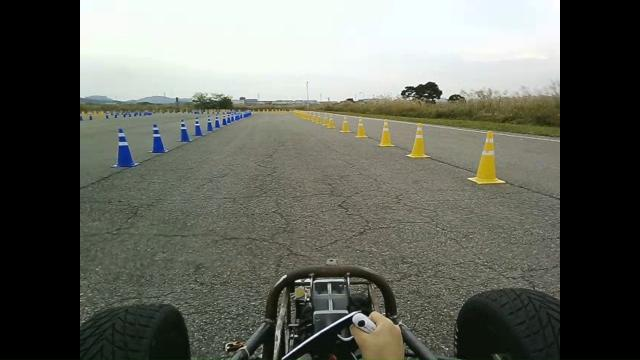blue cone: (108, 122, 143, 169), (145, 119, 171, 157), (177, 117, 196, 144)
yellow cone: (467, 129, 506, 185), (405, 122, 430, 158), (377, 118, 395, 147), (355, 116, 368, 138), (339, 115, 352, 133)
